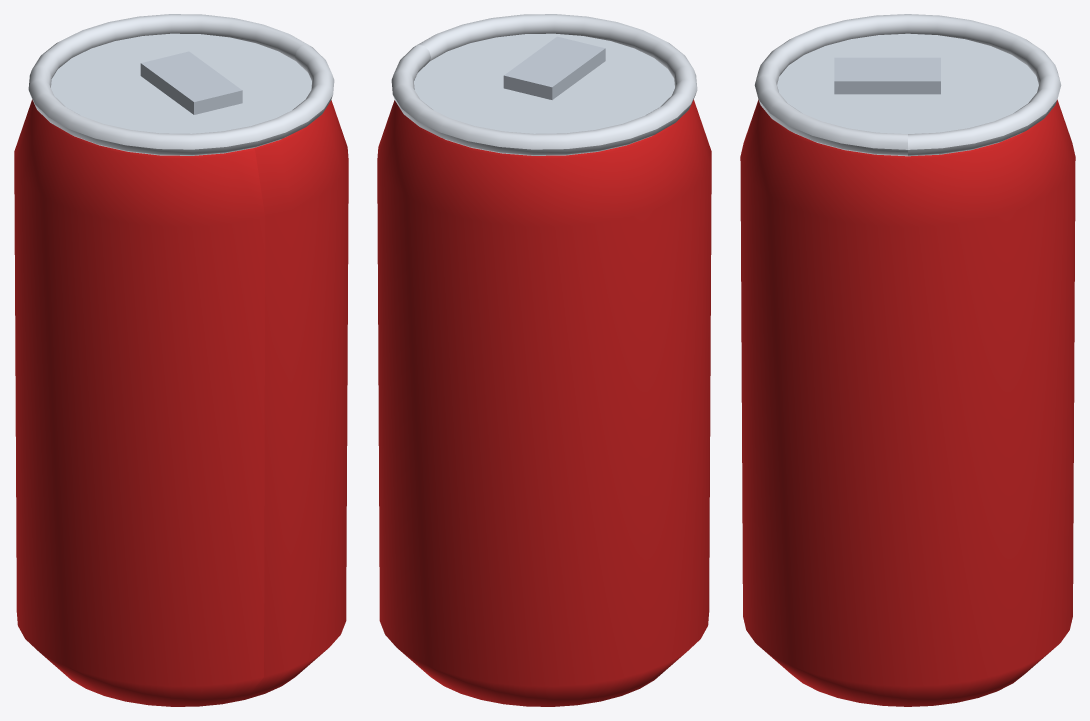
File: soda-can.glb
The picture shows the model from 3 angles, left to right: view 1: azimuth 30°, elevation 25°; view 2: azimuth 150°, elevation 25°; view 3: azimuth 270°, elevation 25°; orthographic projection.
Parts seen in each view (by area): view 1: Can_Body, Can_Top_Dome, Can_Rim, Pull_Tab; view 2: Can_Body, Can_Top_Dome, Can_Rim, Pull_Tab; view 3: Can_Body, Can_Top_Dome, Can_Rim, Pull_Tab.
Boxes of the visible parts, x1,y1,x2,y2 form: Can_Body: [14, 99, 348, 706]; Can_Top_Dome: [51, 33, 311, 133]; Can_Rim: [28, 14, 334, 155]; Pull_Tab: [140, 51, 242, 114]; Can_Body: [377, 99, 711, 706]; Can_Top_Dome: [414, 33, 674, 133]; Can_Rim: [391, 14, 697, 155]; Pull_Tab: [503, 36, 605, 99]; Can_Body: [740, 99, 1075, 706]; Can_Top_Dome: [777, 33, 1038, 133]; Can_Rim: [754, 14, 1061, 156]; Pull_Tab: [834, 57, 940, 94].
Size of the model in its own units: 0.066 by 0.1269 by 0.066.
